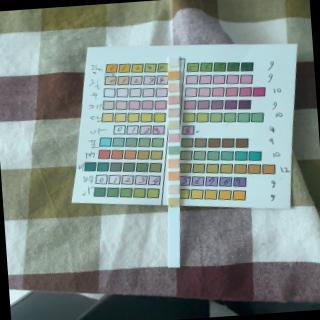mark: (166, 172, 181, 182), (168, 186, 180, 195), (167, 159, 179, 168), (169, 133, 180, 142), (168, 109, 179, 118), (168, 96, 179, 105), (168, 57, 179, 66), (168, 146, 180, 154), (168, 200, 179, 208), (168, 84, 179, 92), (168, 122, 180, 129), (169, 72, 179, 79)
